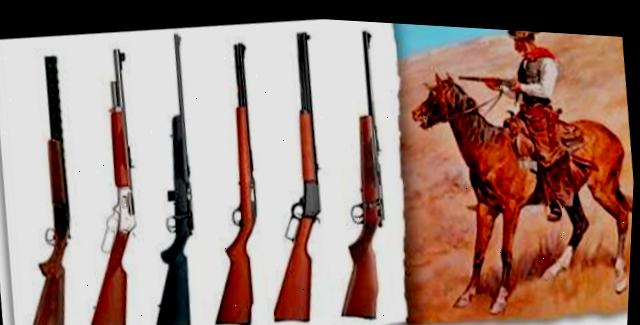rifle: (233, 16, 347, 325), (304, 15, 418, 323), (51, 30, 165, 325), (181, 27, 289, 325), (122, 24, 224, 325), (0, 39, 103, 325)
